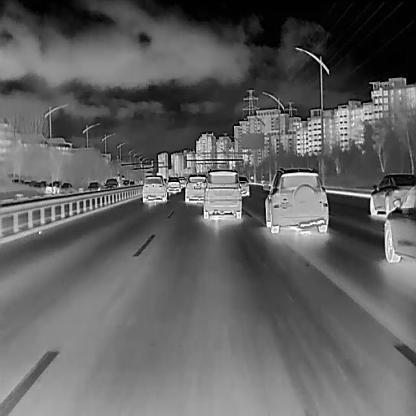car: (262, 166, 329, 233), (383, 182, 416, 263), (198, 168, 242, 219), (369, 171, 416, 218), (184, 173, 207, 204), (141, 174, 167, 201), (103, 176, 119, 192), (166, 174, 179, 192), (238, 175, 249, 196), (86, 181, 100, 195), (58, 181, 73, 194), (46, 179, 59, 194), (177, 176, 185, 187), (121, 179, 129, 187), (129, 180, 135, 186)
